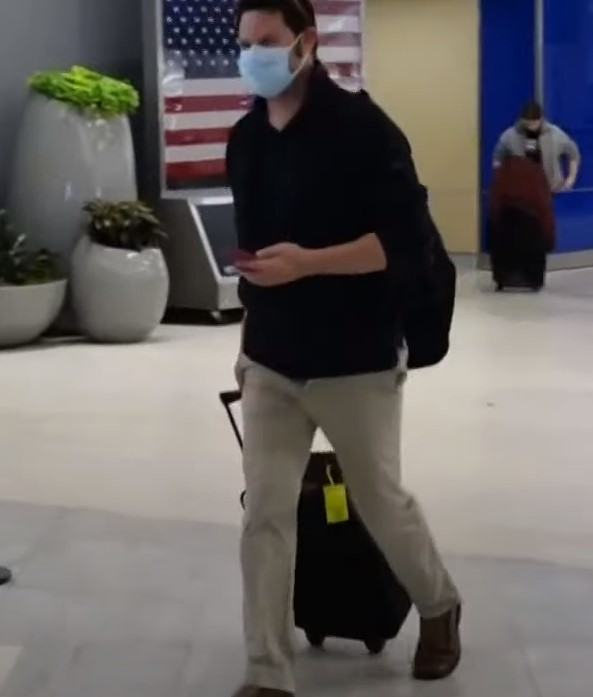face_with_mask: (234, 7, 321, 103)
